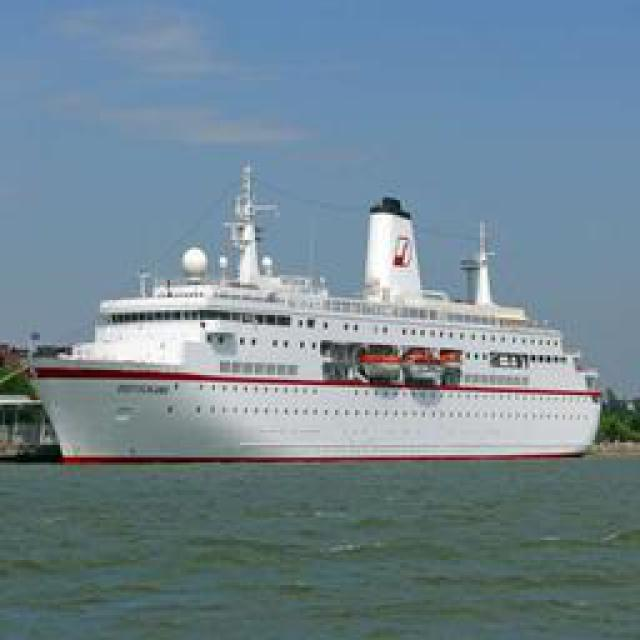Ship: (25, 167, 613, 467)
